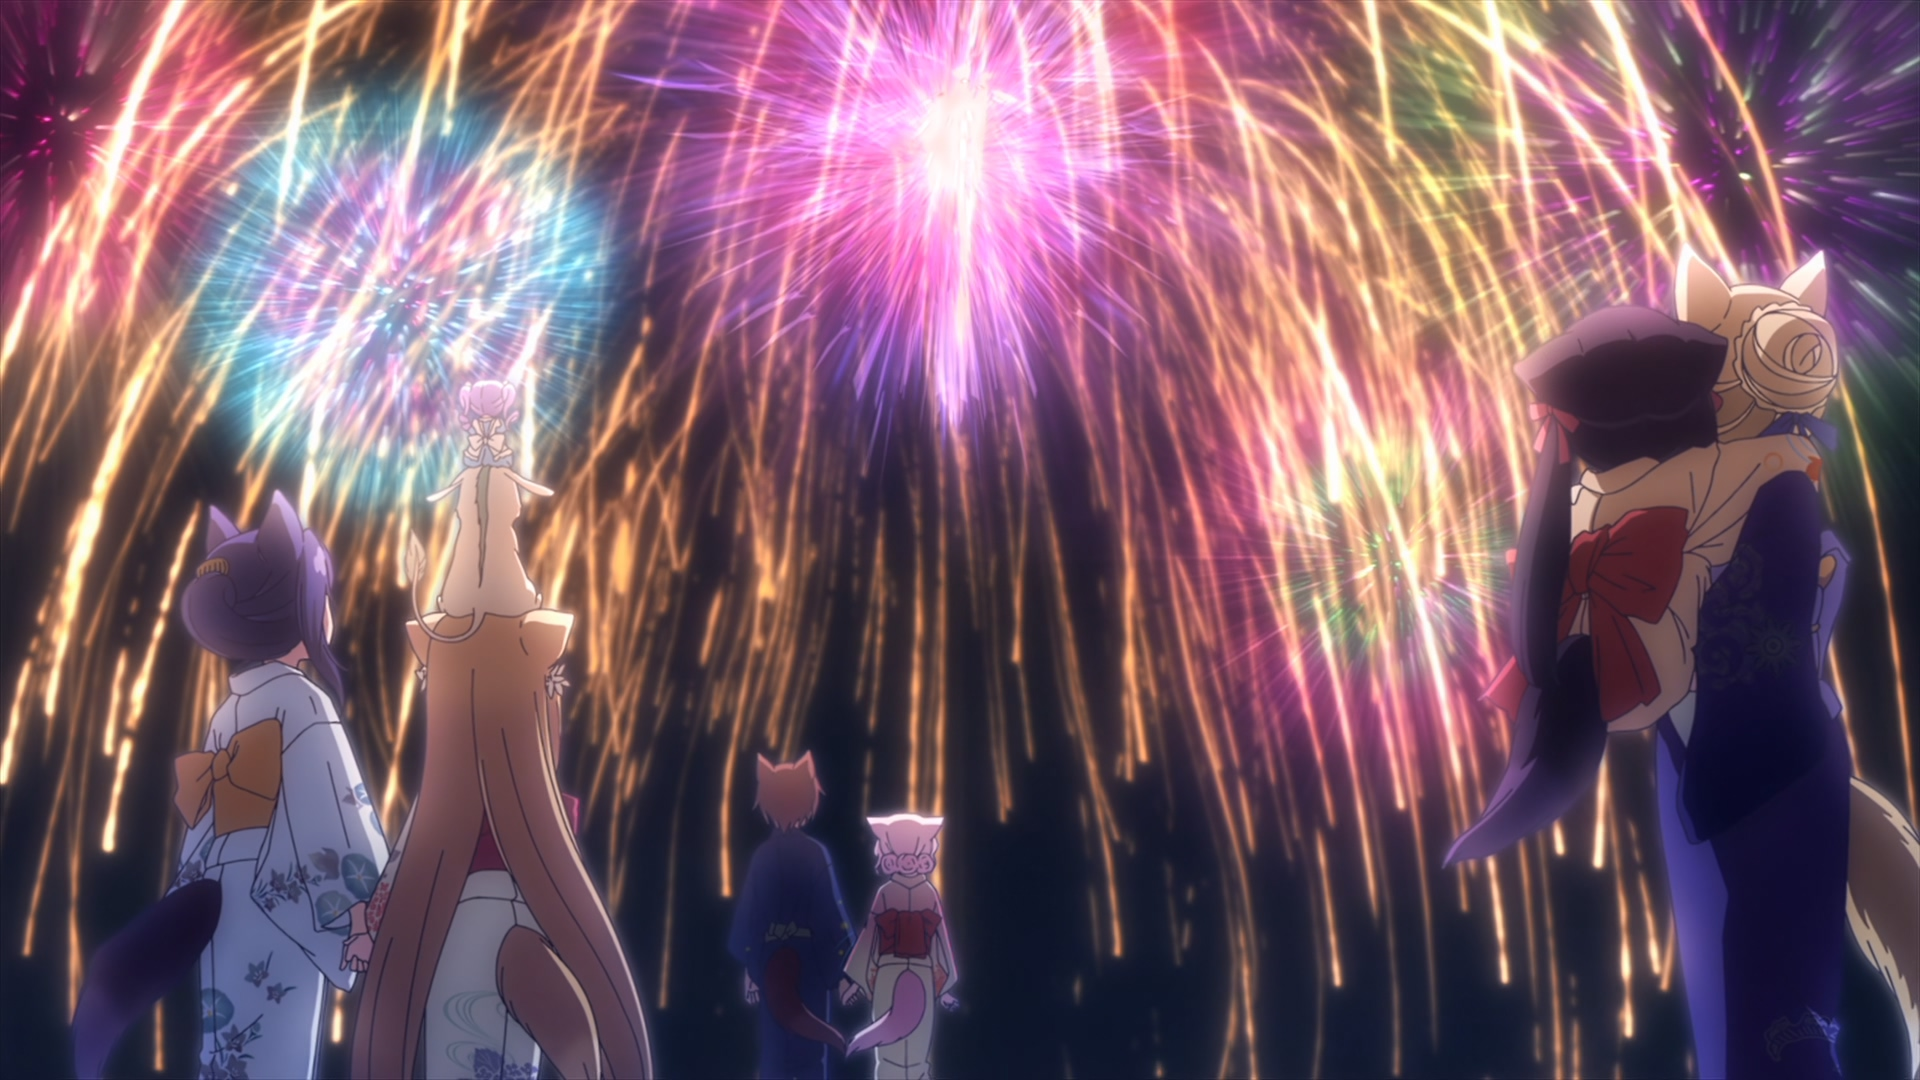枣: (735, 752, 857, 1080)
柚: (349, 609, 651, 1080)
桐: (1652, 247, 1920, 1080)
樱: (1444, 309, 1832, 868)
瓜之介: (406, 465, 554, 644)
皋: (71, 489, 389, 1080)
莲: (841, 814, 957, 1080)
阿菊: (458, 378, 524, 465)
